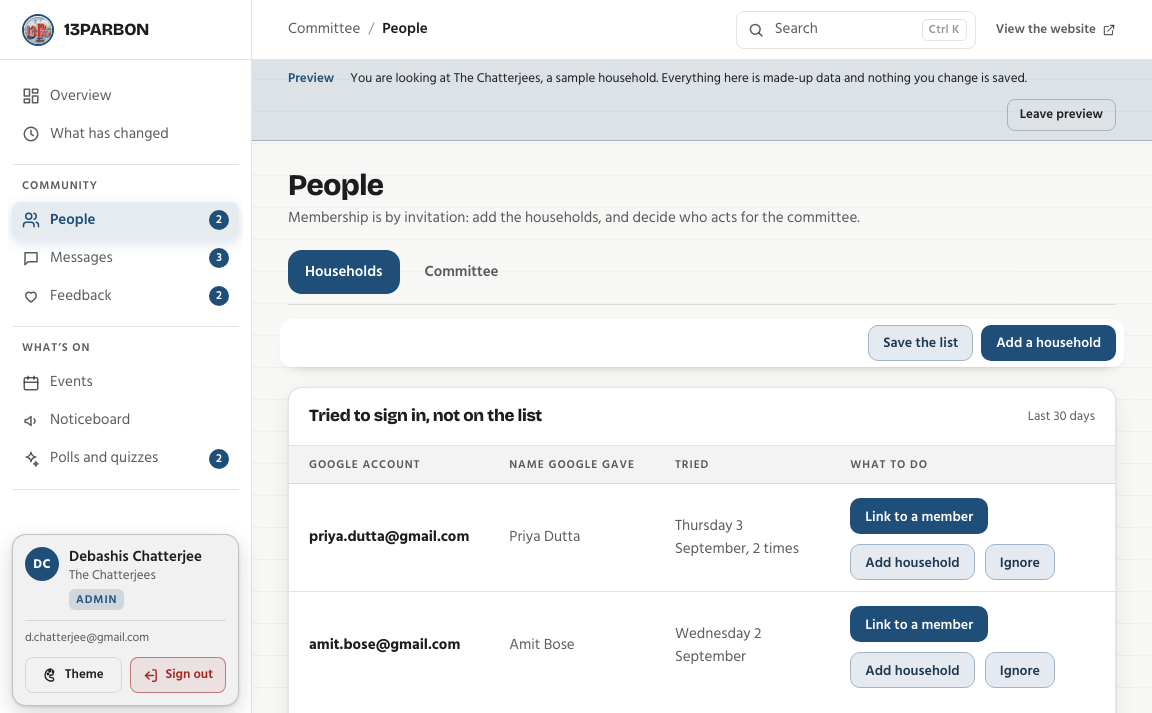
the committee, on People › is a tab of its own beside the households
This screenshot has width=1152, height=713.
Click the tab "Committee" at (462, 272), box [408, 250, 516, 294]
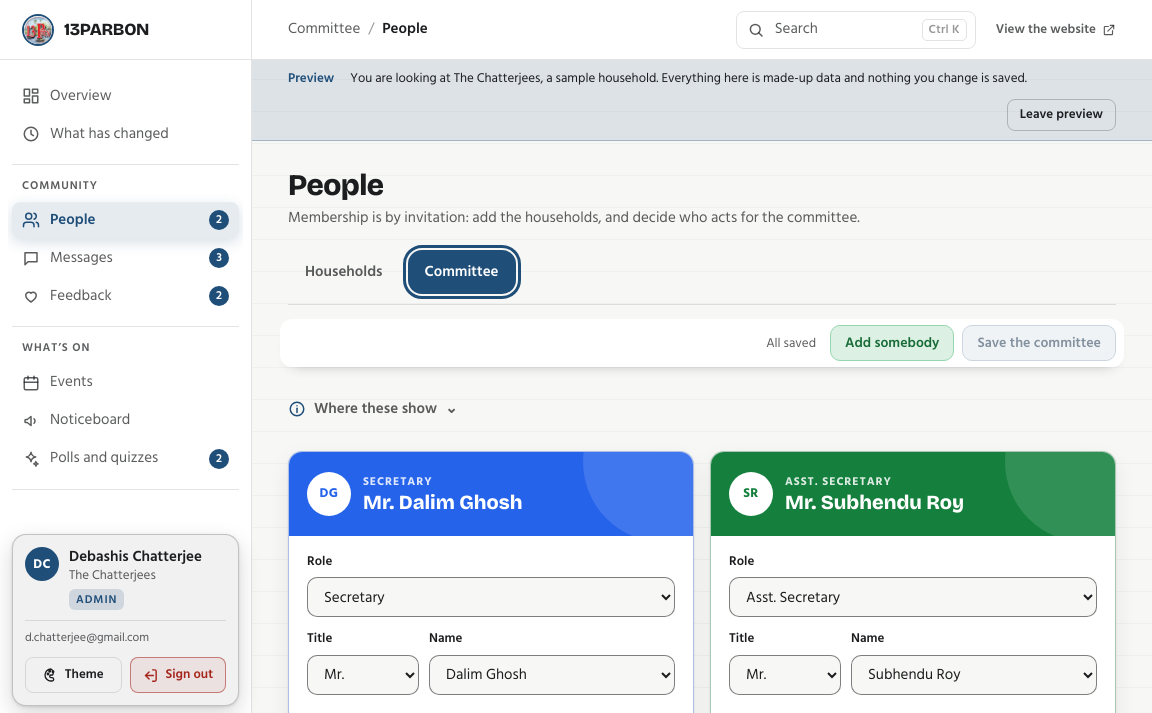
Check: the dropdown named "Role 1" shows "Secretary", box [307, 577, 675, 617]
Check: the dropdown named "Title 1" shows "Mr.", box [307, 655, 419, 695]
Check: the dropdown named "Name 1" shows "Dalim Ghosh", box [429, 655, 675, 695]
